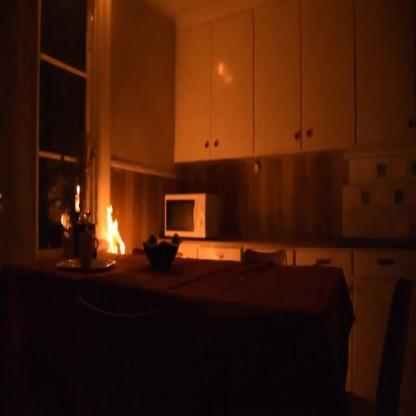fire: (104, 200, 128, 258), (76, 184, 80, 194)
